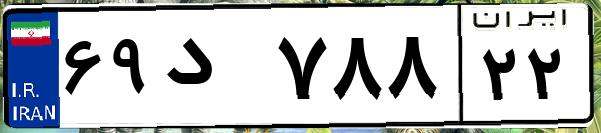2: (475, 38, 525, 113), (525, 38, 570, 115)
6: (57, 26, 110, 100)
7: (270, 28, 330, 110)
8: (385, 28, 445, 110), (330, 28, 385, 110)
9: (110, 28, 158, 98)
د: (158, 20, 270, 120)
